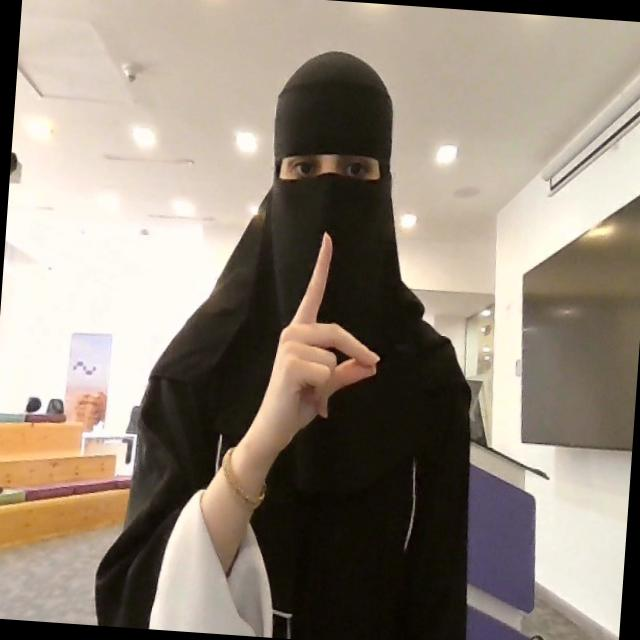emergency: (243, 225, 389, 464)
